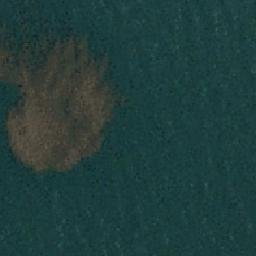debris: (23, 65, 114, 140), (50, 38, 87, 68), (8, 137, 97, 149), (1, 49, 24, 86), (15, 150, 89, 160), (7, 105, 25, 145), (21, 161, 74, 171)
